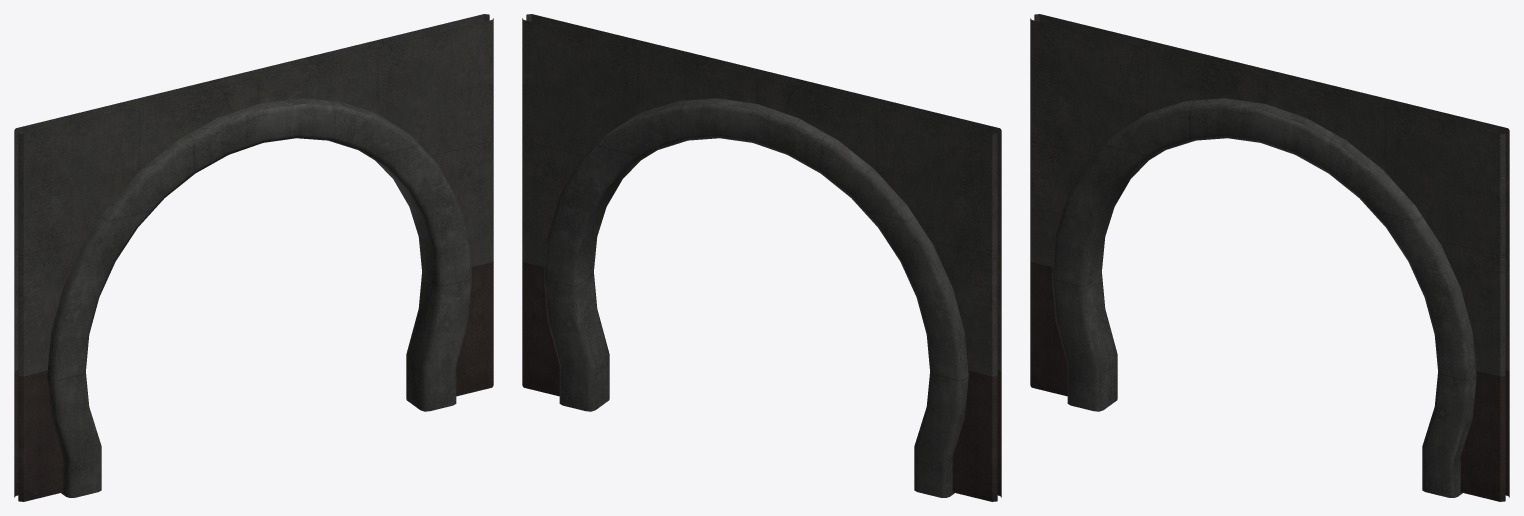
Rendered from tunnel_hole_2.fbx.
3 renders of one model, left to right at view 1: azimuth 30°, elevation 25°; view 2: azimuth 150°, elevation 25°; view 3: azimuth 330°, elevation 25°, orthographic.
Parts seen in each view (by area): view 1: tunnel_hole_2; view 2: tunnel_hole_2; view 3: tunnel_hole_2.
Boxes of the visible parts, x1=… form: tunnel_hole_2: x1=14, y1=14, x2=493, y2=501; tunnel_hole_2: x1=522, y1=14, x2=1001, y2=501; tunnel_hole_2: x1=1030, y1=14, x2=1509, y2=501.
Bounding box in the file's own units: 4.06 × 0.3 × 3.02.
